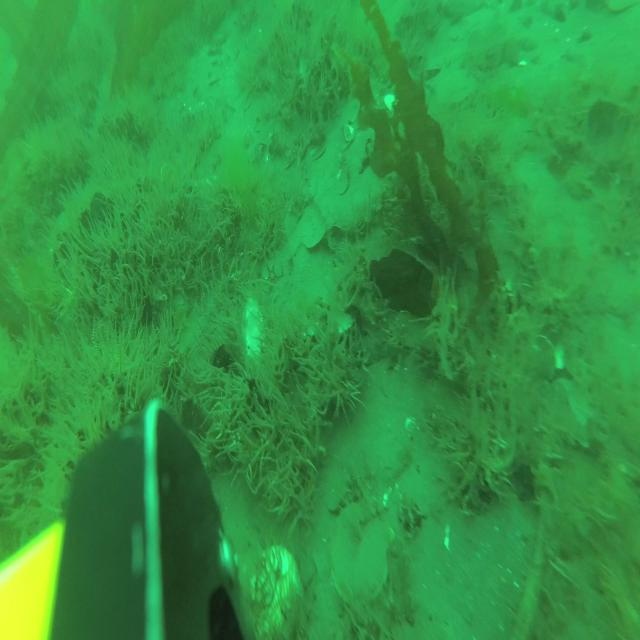scallop: (326, 499, 392, 601), (253, 551, 300, 640), (243, 300, 265, 366)
